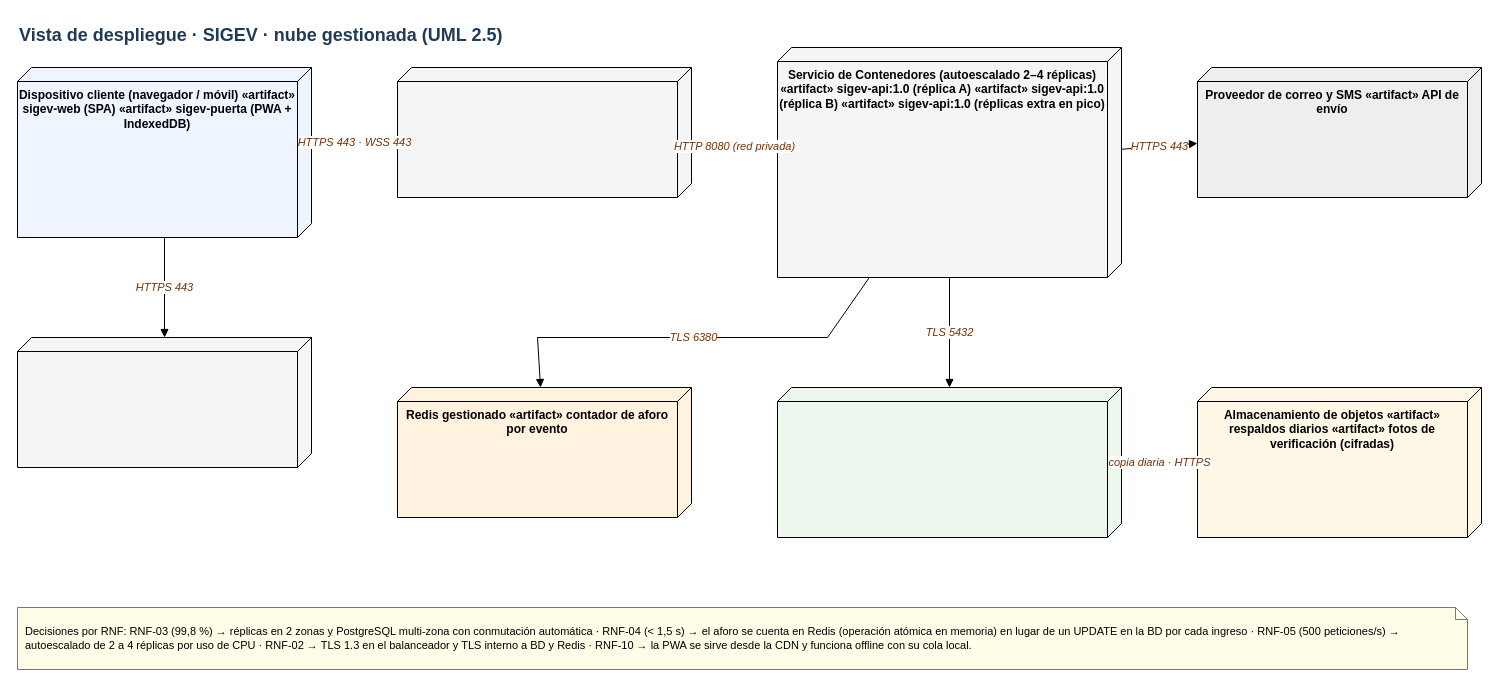
The diagram is 1499 pixels wide and 687 high, and some of its shapes have lost their labels. The centre of each missing label's shape, as x and y in pixels:
Balanceador gestionado (TLS 1.3) «artifact» certificado TLS: (544,132)
CDN / hosting estático «artifact» build de la SPA y la PWA: (164,402)
PostgreSQL gestionado (multi-zona: primaria + espera) «artifact» esquema sigev: (949,462)
